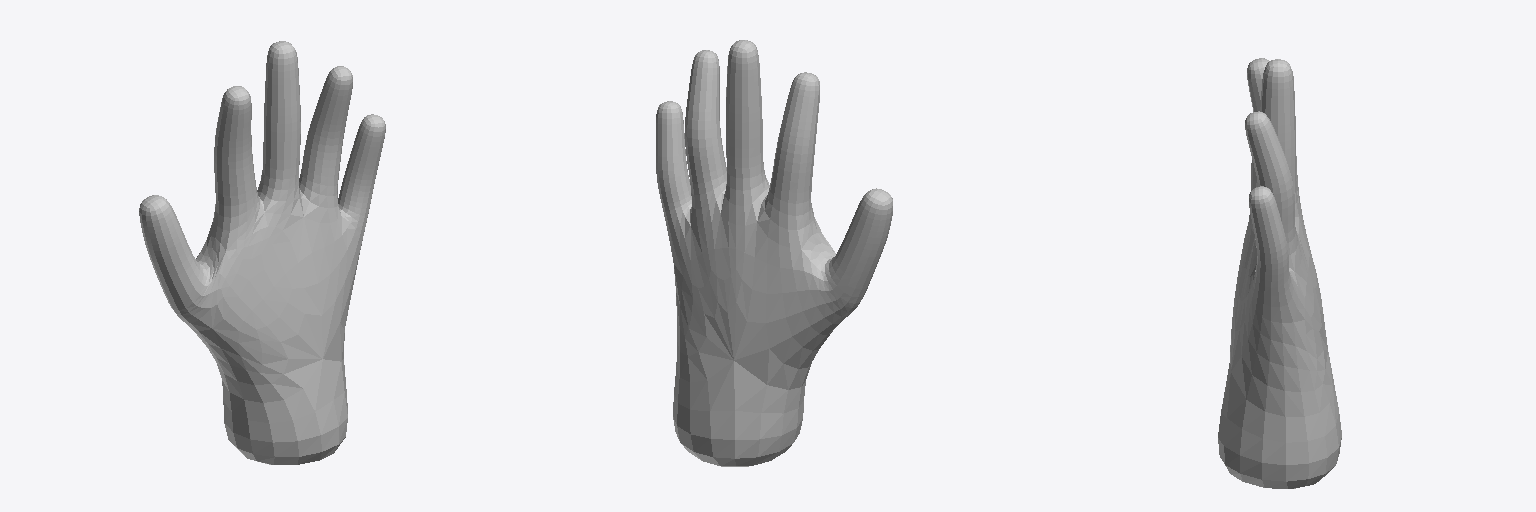
File: handanimatsion1.obj
3 views of the same model, side by side, from view 1: azimuth 30°, elevation 25°; view 2: azimuth 150°, elevation 25°; view 3: azimuth 270°, elevation 25° (orthographic).
Parts seen in each view (by area): view 1: Cube; view 2: Cube; view 3: Cube.
Part boxes in pixels (bbox=[...]): Cube: bbox=[139, 41, 385, 464]; Cube: bbox=[656, 40, 892, 466]; Cube: bbox=[1218, 58, 1341, 488].
Bounding box in the file's own units: 3.9 × 6.51 × 1.77.